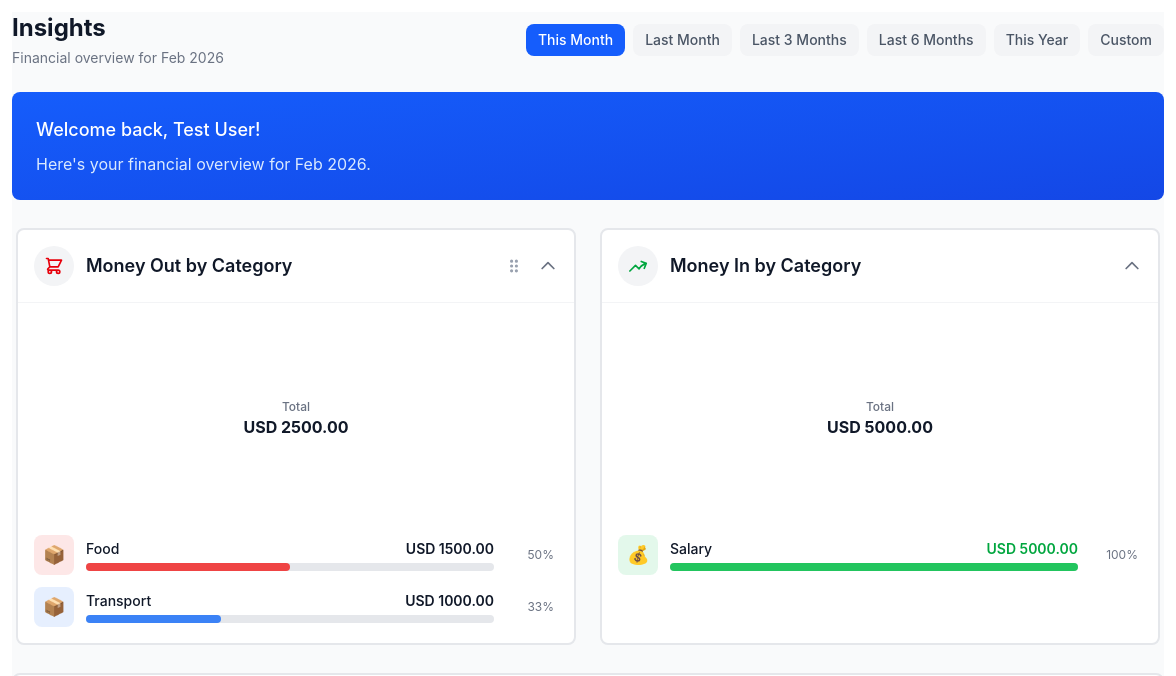
Test: InsightsPage - Period Selection › shows custom date picker when Custom is selected
What coordinates should you click on to do the following:
click the button "Custom"
I would click on:
 (1126, 40)
Its box is [1088,24,1164,56].
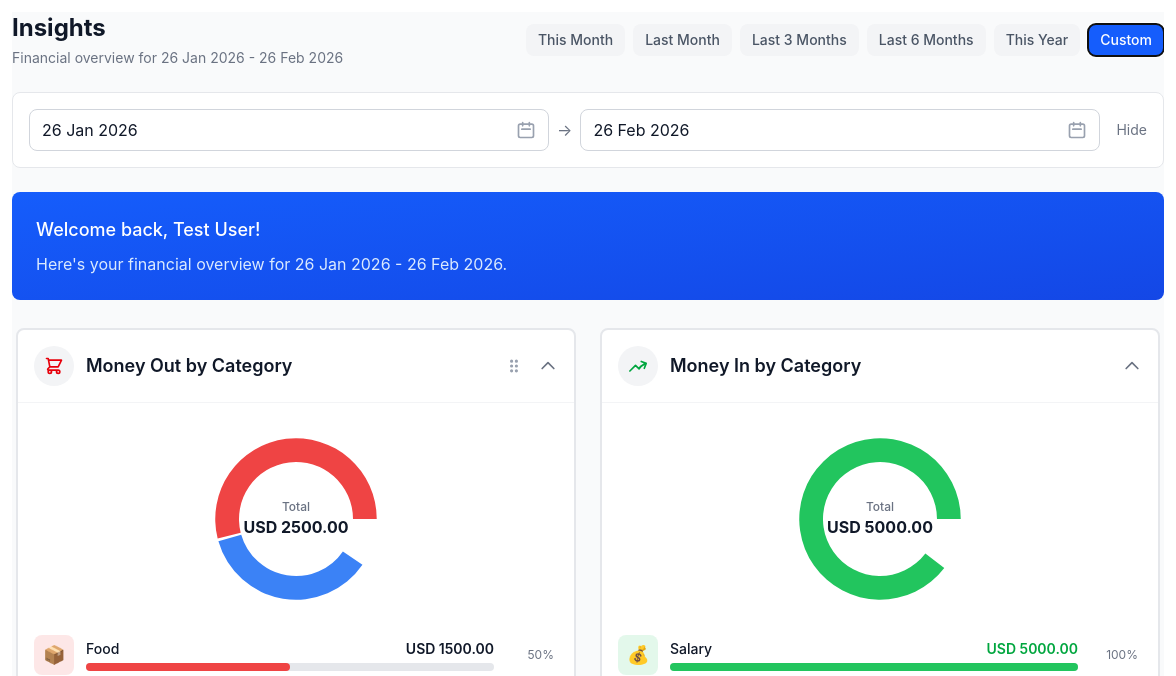
Expected: the button "Hide" is shown, [1116,120,1147,140]
